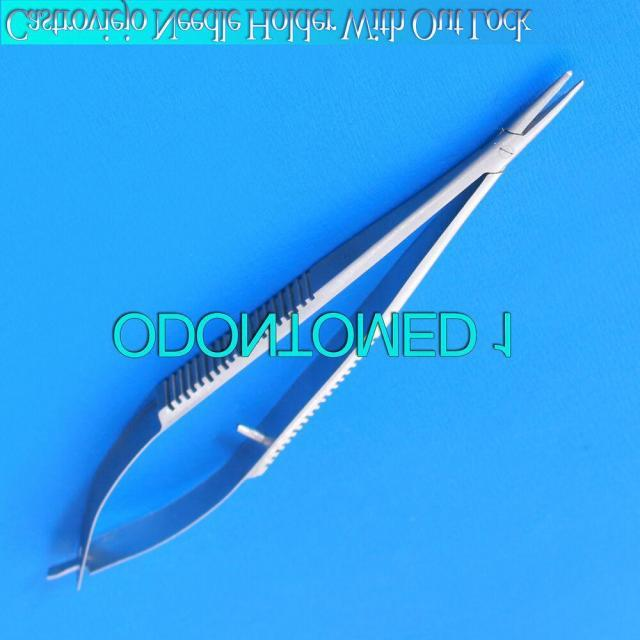Castroviejo: (42, 61, 590, 598)
